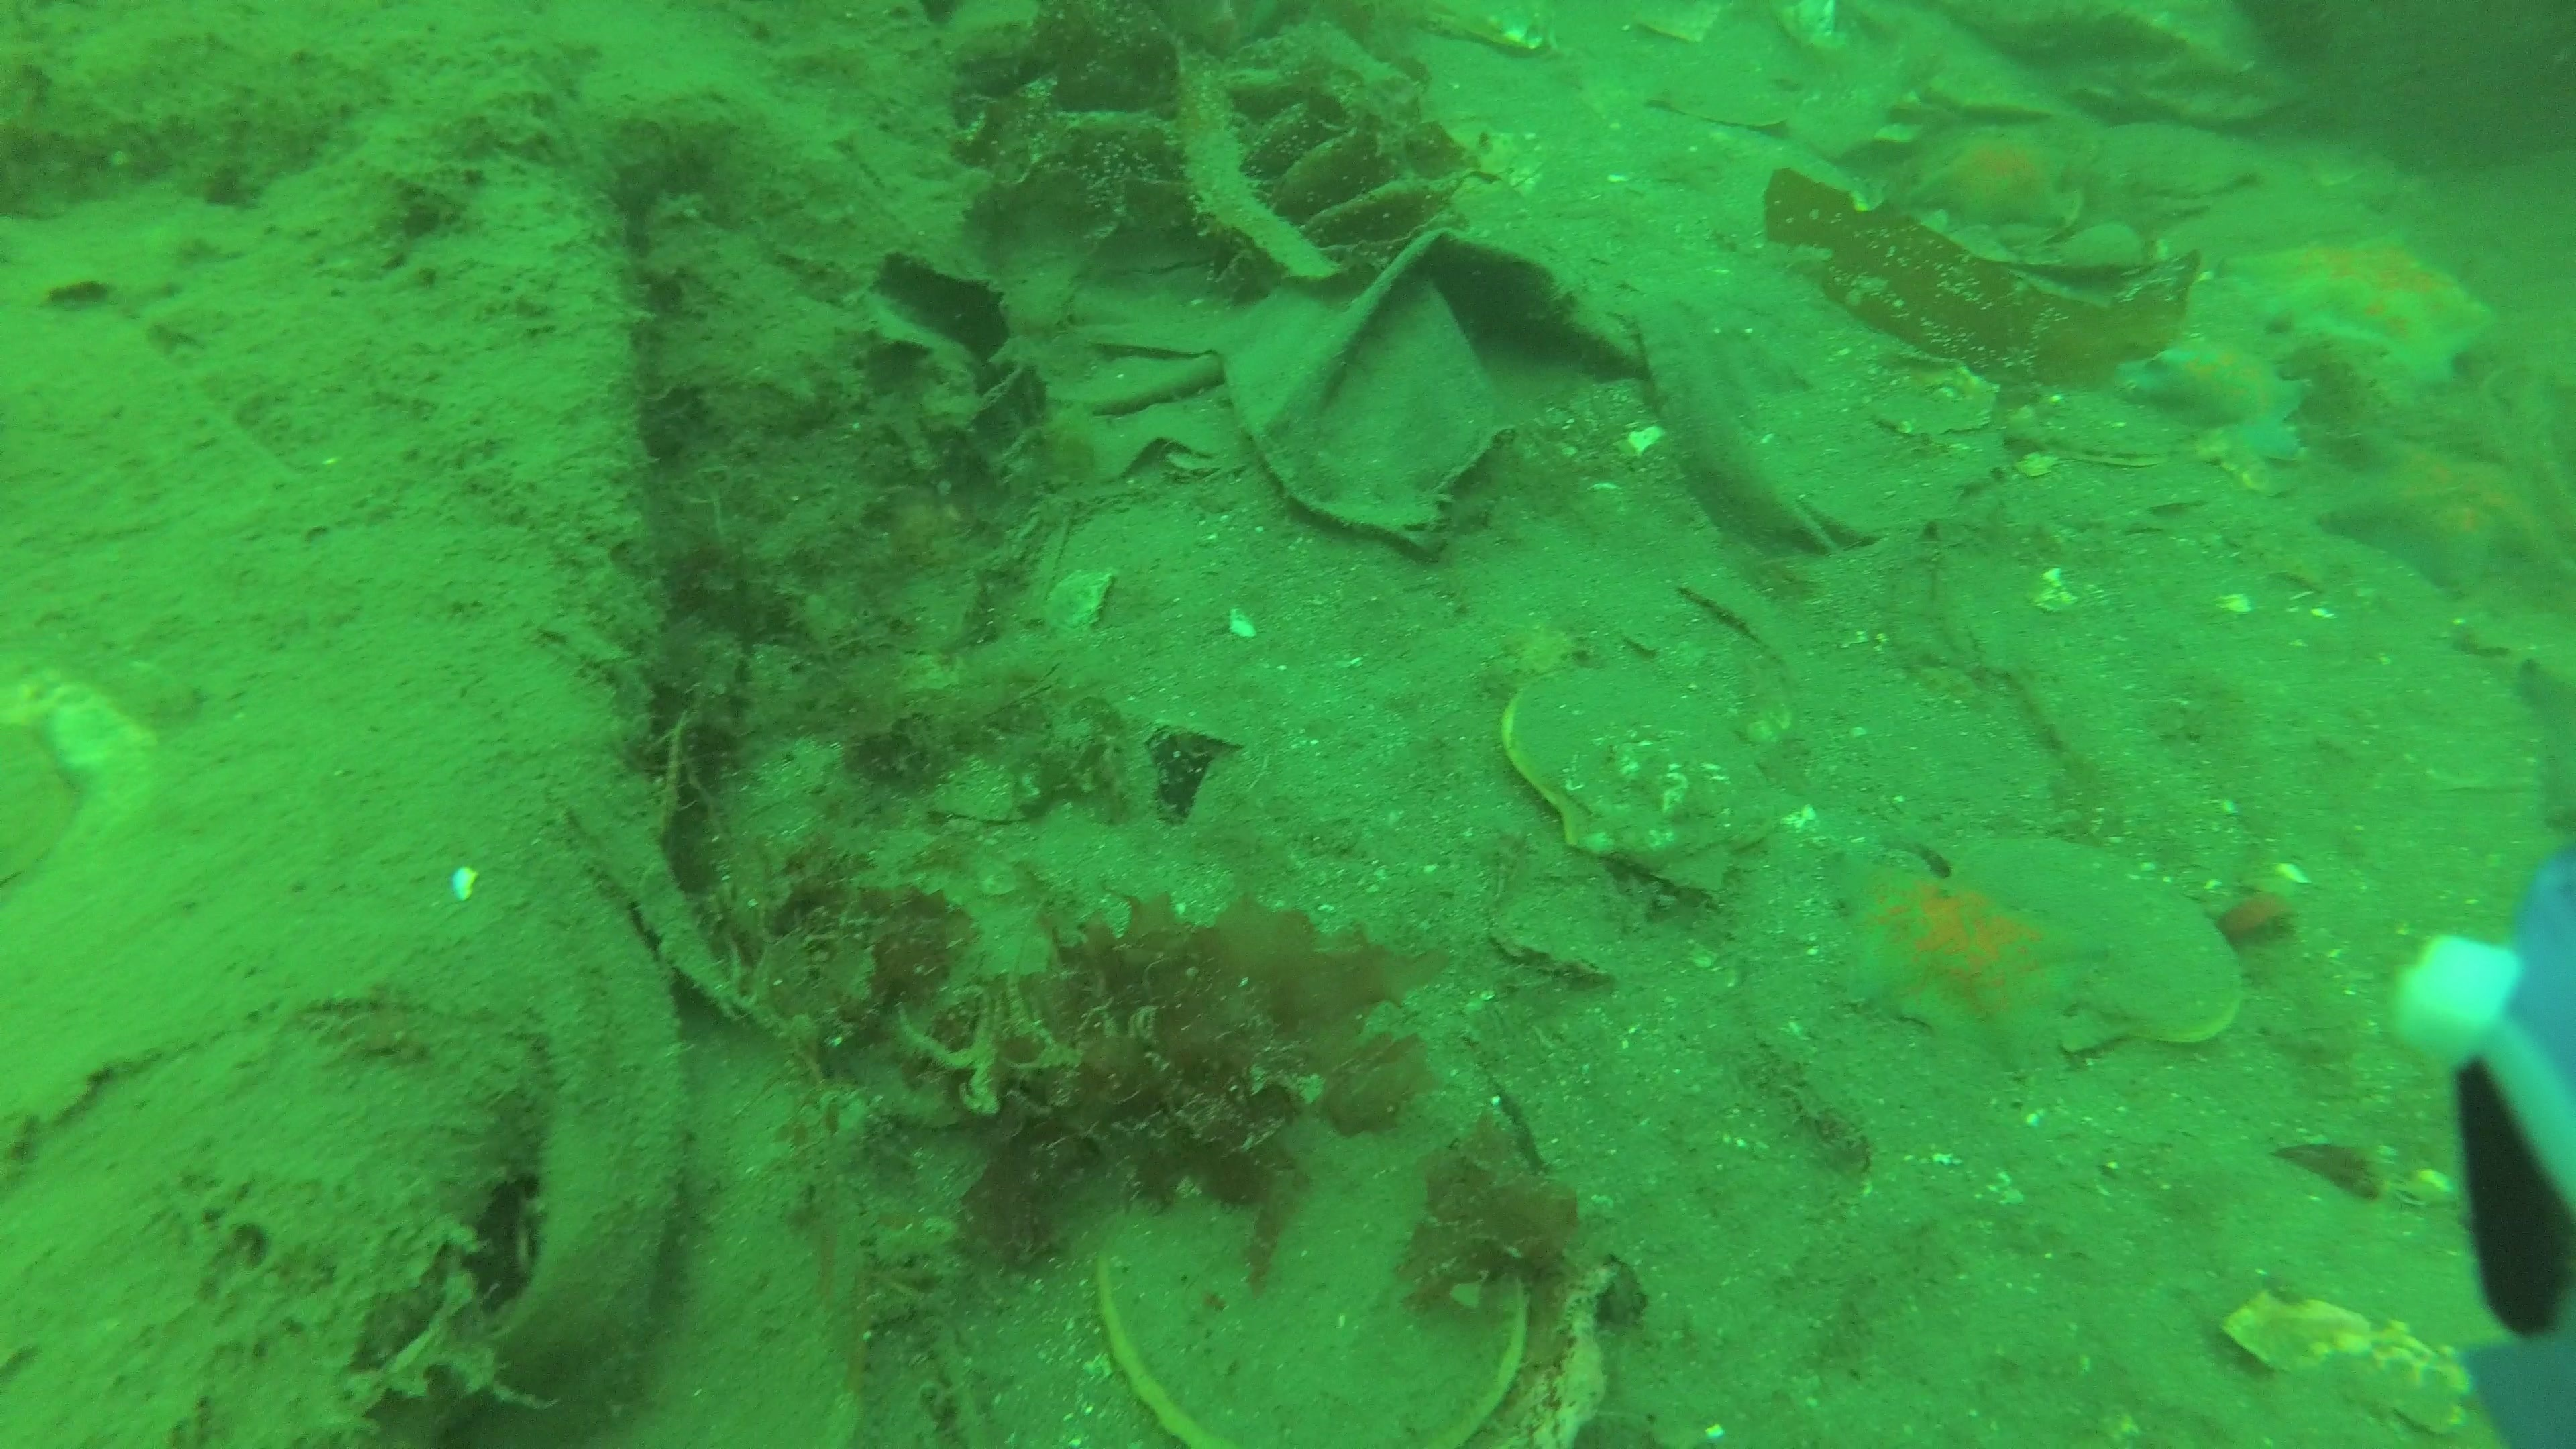scallop: (1097, 1104, 1614, 1449), (1946, 832, 2247, 1062), (1504, 667, 1782, 904), (2054, 119, 2265, 196), (0, 720, 88, 883), (2012, 387, 2173, 472), (1868, 361, 1999, 444), (2029, 218, 2155, 272), (1658, 81, 1789, 131)
starfish: (2229, 225, 2502, 393), (2318, 439, 2562, 596), (2120, 336, 2305, 464), (1886, 122, 2052, 216)
